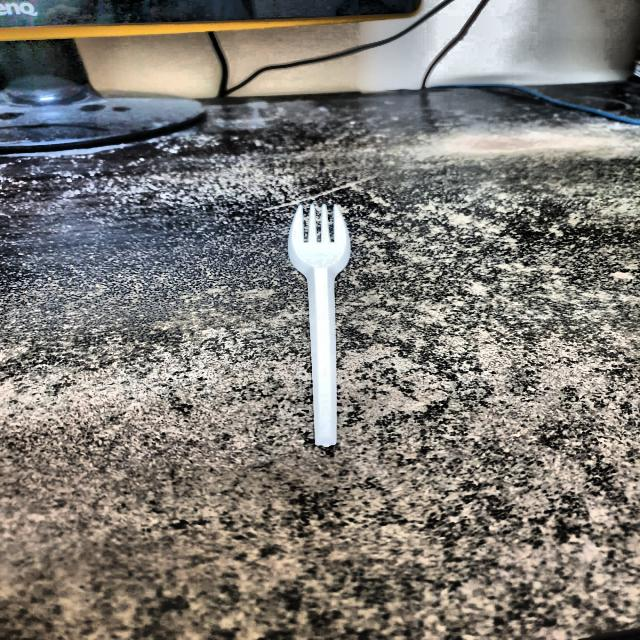plastic utensil: (282, 198, 363, 460)
